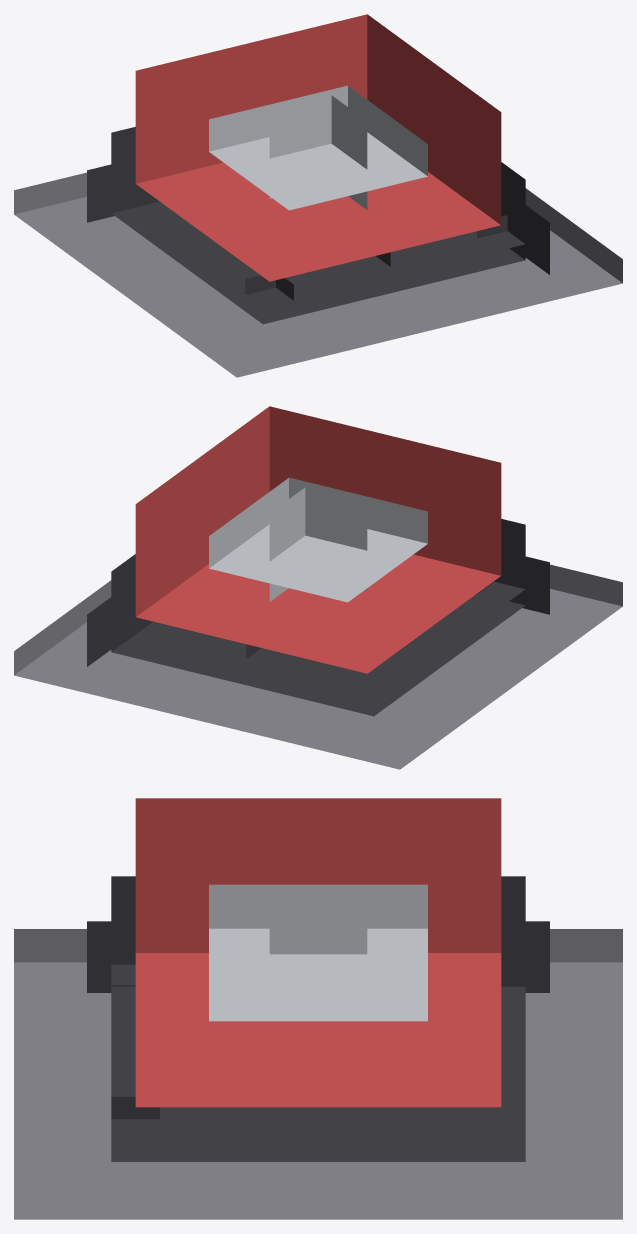
Rendered from button.gltf.
3 views of the same model, one above another, from view 1: azimuth 30°, elevation 25°; view 2: azimuth 150°, elevation 25°; view 3: azimuth 270°, elevation 25° (orthographic). The views are drawn at different scales.
Parts seen in each view (by area): view 1: button; view 2: button; view 3: button.
Boxes of the visible parts, x1,y1,x2,y2 form: button: [14, 14, 622, 377]; button: [14, 406, 622, 769]; button: [14, 798, 622, 1219].
Size of the model in its own units: 0.05 by 0.021 by 0.05.
